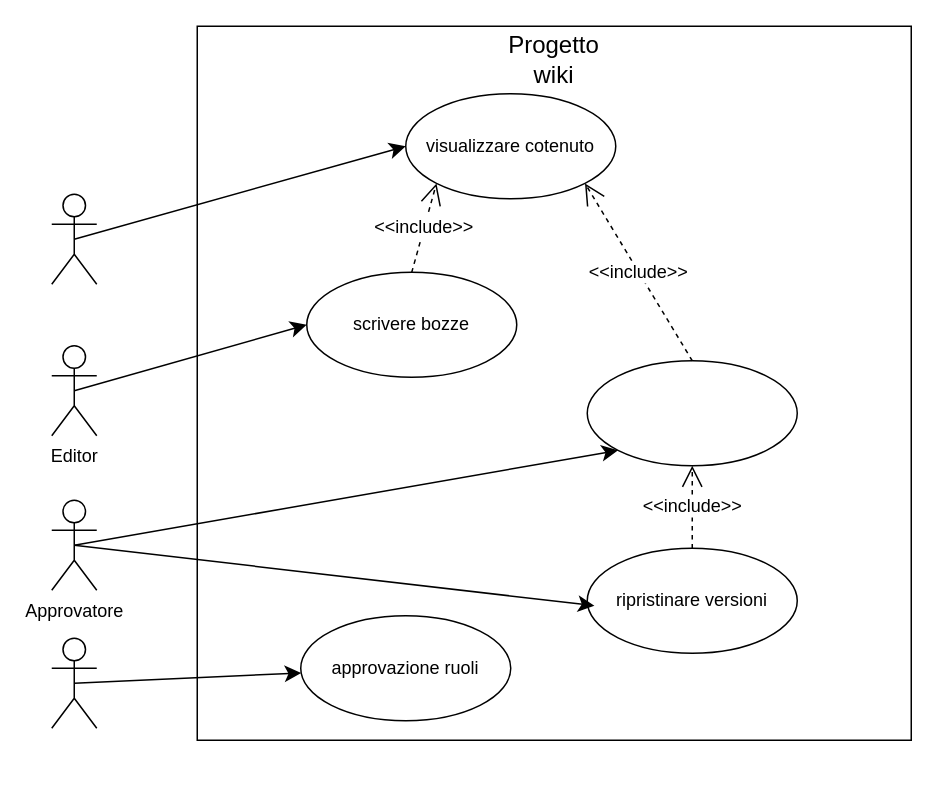
Some shapes in this 938 by 786 pixel diagram are drawn without their labels. The shapes that lost their labels are listed below. From the top down, each one's box as (x1, y1, x2, y2) in pixels, then its label:
(50, 193, 97, 284): Utente
(586, 359, 797, 466): approvare modfiche
(50, 637, 97, 728): Admin
